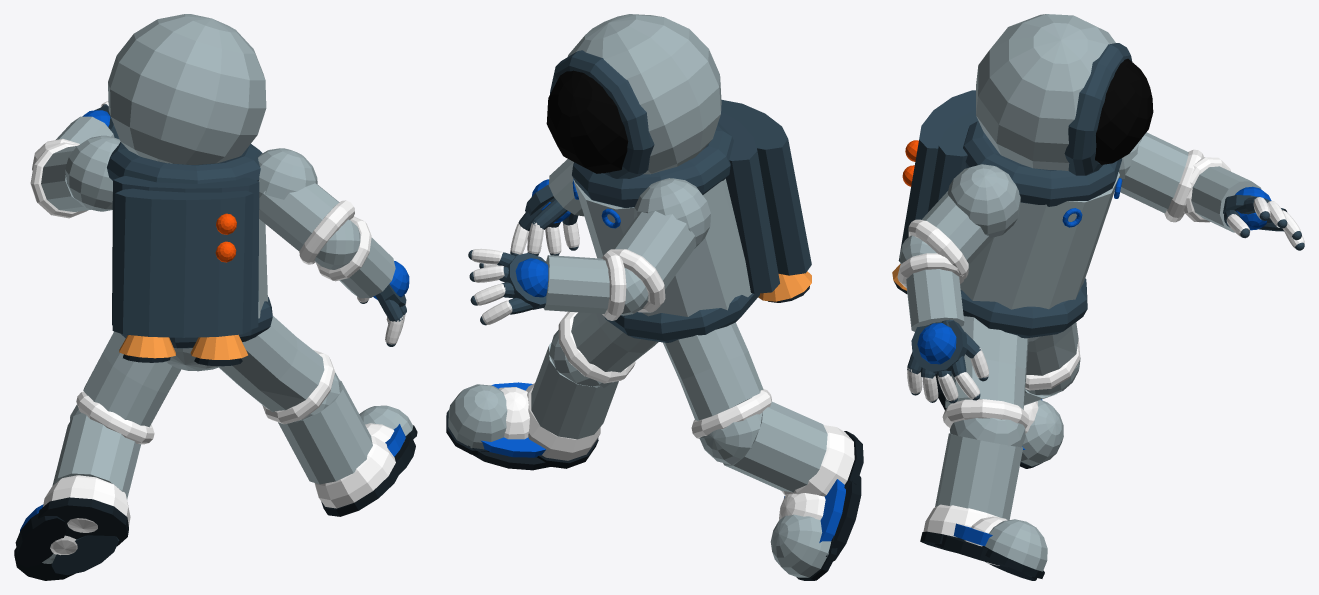
File: AstronautModel.obj
3 views of the same model, side by side, from view 1: azimuth 30°, elevation 25°; view 2: azimuth 150°, elevation 25°; view 3: azimuth 270°, elevation 25° (orthographic). The views are drawn at different scales.
Visible parts, largest first — view 1: Astronaut; view 2: Astronaut; view 3: Astronaut.
Boxes of the visible parts, x1,y1,x2,y2 form: Astronaut: [14, 14, 417, 580]; Astronaut: [446, 14, 863, 580]; Astronaut: [892, 14, 1304, 580].
Size of the model in its own units: 0.8689 by 1.09 by 0.7852.
